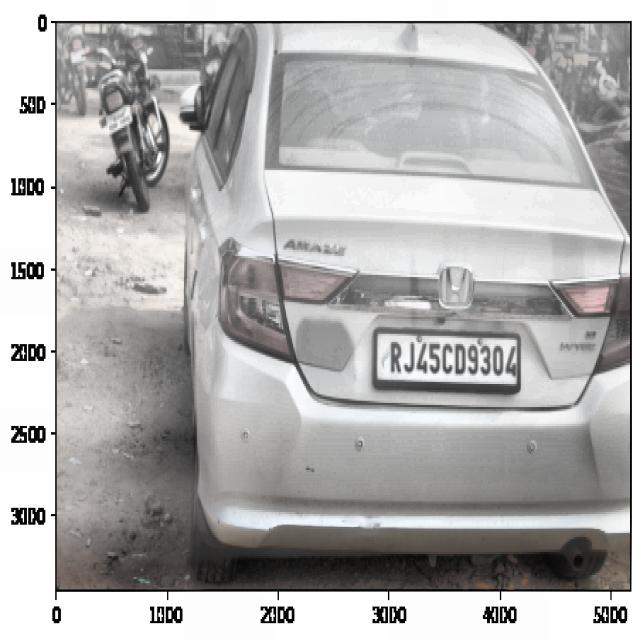license_plate: (381, 328, 520, 390)
